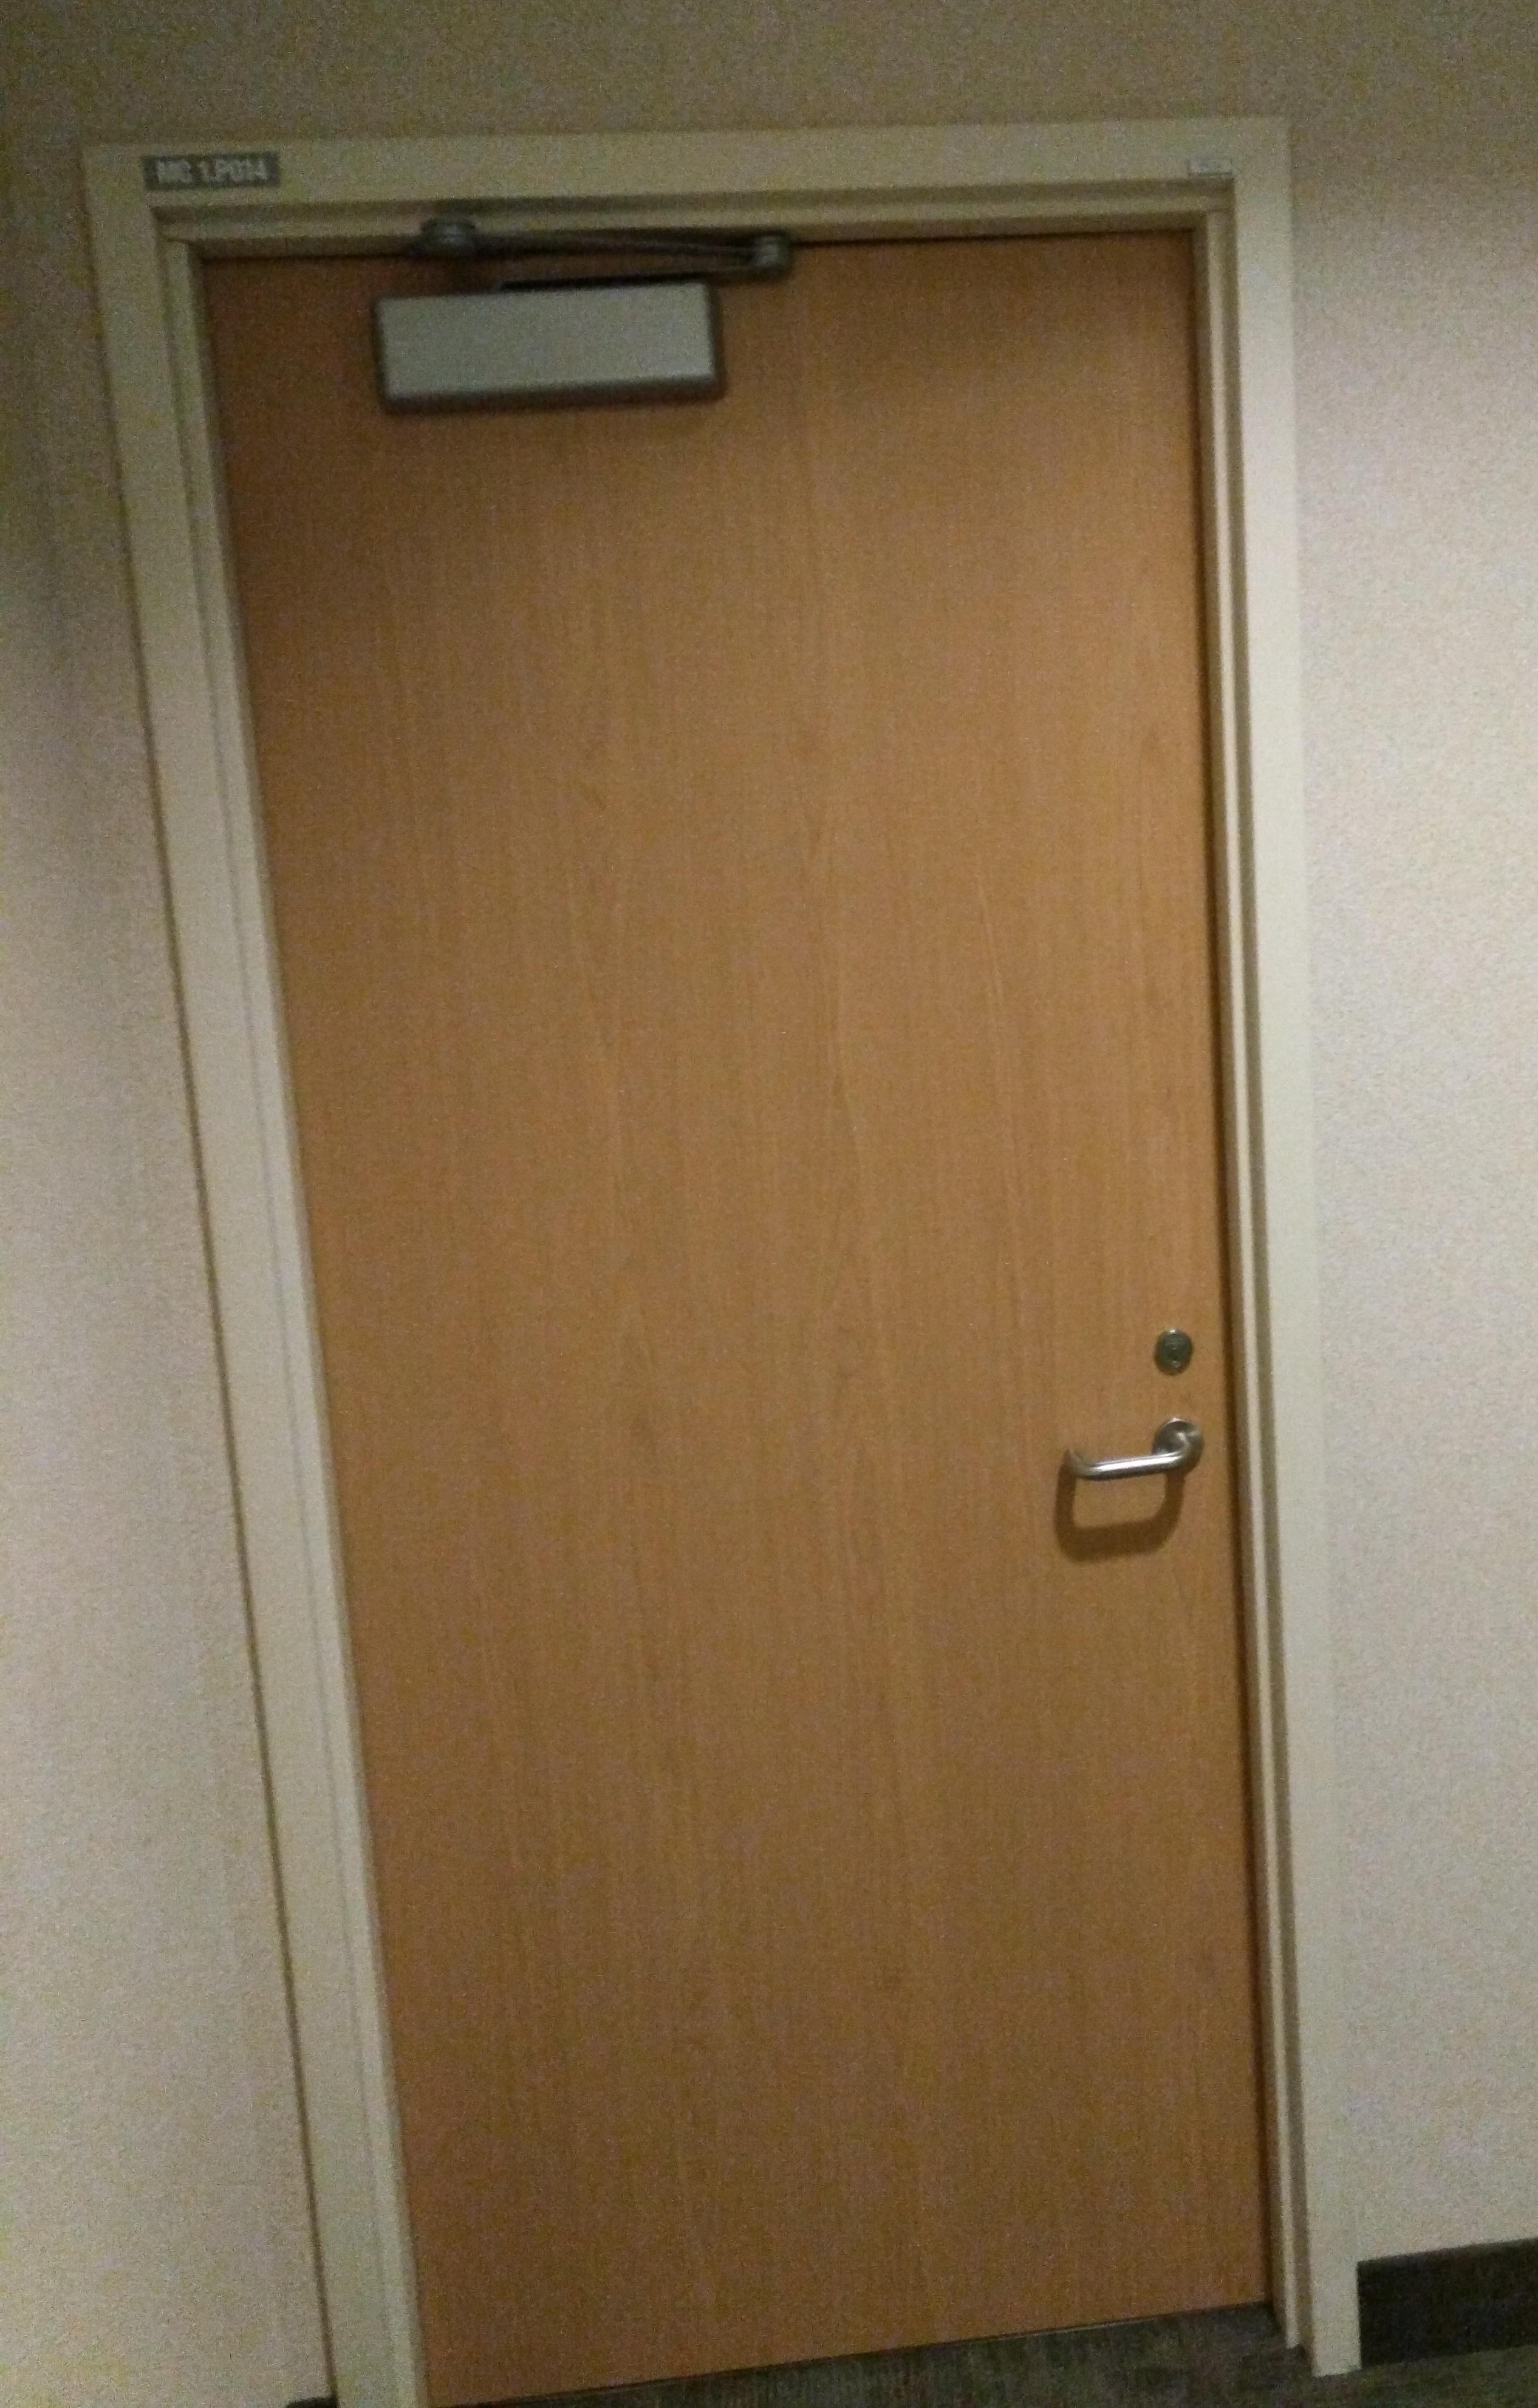door: (130, 179, 1335, 2375)
